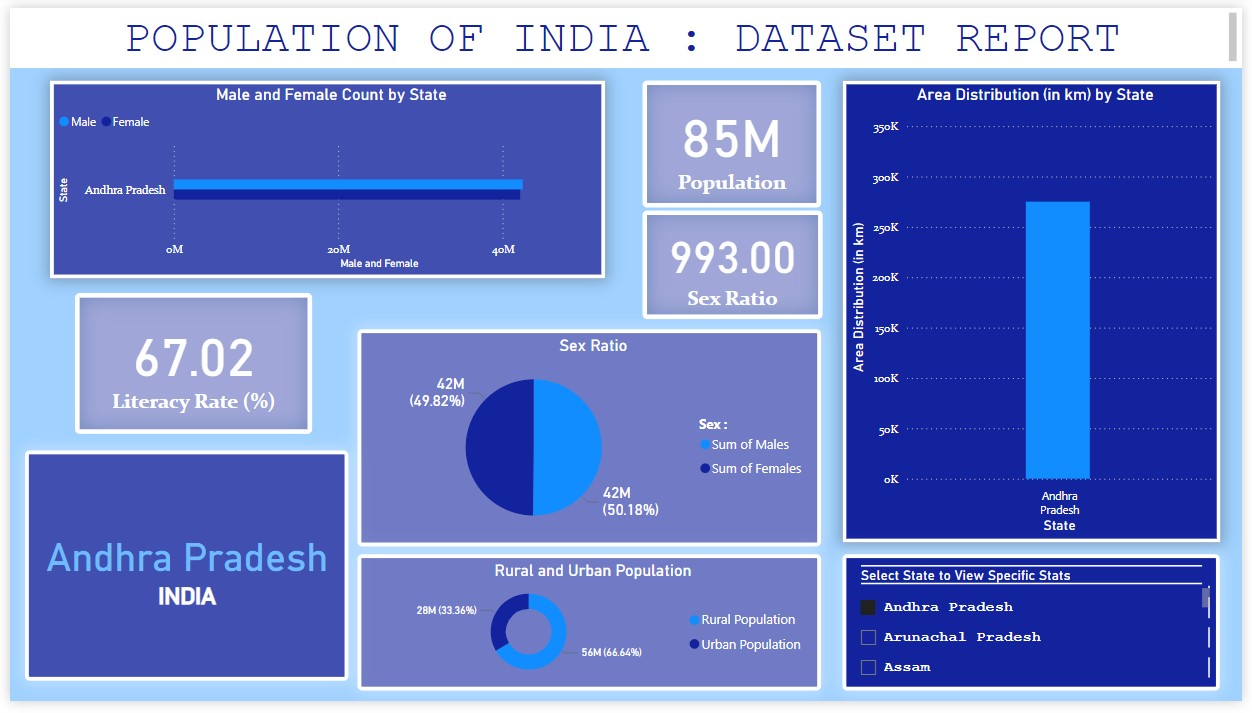

The dashboard page shown, as its layout file describes it:
{"tool":"powerbi","page":{"name":"POPULATION OF INDIA : DATASET ANALYSIS","canvas":[1280,720],"ordinal":0},"visuals":[{"type":"clusteredBarChart","title":"Male and Female Count by State","fields":{"Category":["population.State"],"Y":["Sum(population.Males)","Sum(population.Females)"]},"box":[42,75.4,576.8,205.8],"z":0},{"type":"clusteredColumnChart","fields":{"Category":["population.State"],"Y":["Sum(population.Area (km*km))"]},"box":[865.2,75.4,392.8,479.7],"z":1000},{"type":"card","fields":{"Values":["Sum(population.Population)"]},"box":[656.5,75.4,185.5,131.9],"z":2000},{"type":"card","fields":{"Values":["Avg(population.Literacy Rate (%))"]},"box":[68.1,295.7,246.4,146.4],"z":3000},{"type":"pieChart","title":"Sex Ratio","fields":{"Y":["Sum(population.Males)","Sum(population.Females)"]},"box":[361,333.8,481.8,226],"z":4000},{"type":"donutChart","title":"Rural and Urban Population","fields":{"Y":["Sum(population.Rural Population)","Sum(population.Urban Population)"]},"box":[361.2,567.5,481.2,141.2],"z":5000},{"type":"card","fields":{"Values":["Avg(population.Sex Ratio)"]},"box":[656.5,210.1,187,113],"z":6000},{"type":"slicer","fields":{"Values":["population.State"]},"box":[865.4,566.9,392.3,141.5],"z":7000},{"type":"card","fields":{"Values":["Min(population.State)"]},"box":[15.6,459.7,336.4,239],"z":8000},{"type":"textbox","box":[0,0,1279.7,62.3],"z":9000}]}

Visuals, with their boxes in screenshot pixels (x1, y1, x2, y2), scaled from the page's 1280x720 canvas onto the 1252x713 screenshot:
"Male and Female Count by State" clusteredBarChart: [left=41, top=75, right=605, bottom=278]
clusteredColumnChart - population.State x Sum(population.Area (km*km)): [left=846, top=75, right=1230, bottom=550]
card - Sum(population.Population): [left=642, top=75, right=824, bottom=205]
card - Avg(population.Literacy Rate (%)): [left=67, top=293, right=308, bottom=438]
"Sex Ratio" pieChart: [left=353, top=331, right=824, bottom=554]
"Rural and Urban Population" donutChart: [left=353, top=562, right=824, bottom=702]
card - Avg(population.Sex Ratio): [left=642, top=208, right=825, bottom=320]
slicer - population.State: [left=846, top=561, right=1230, bottom=702]
card - Min(population.State): [left=15, top=455, right=344, bottom=692]
textbox: [left=0, top=0, right=1251, bottom=62]
